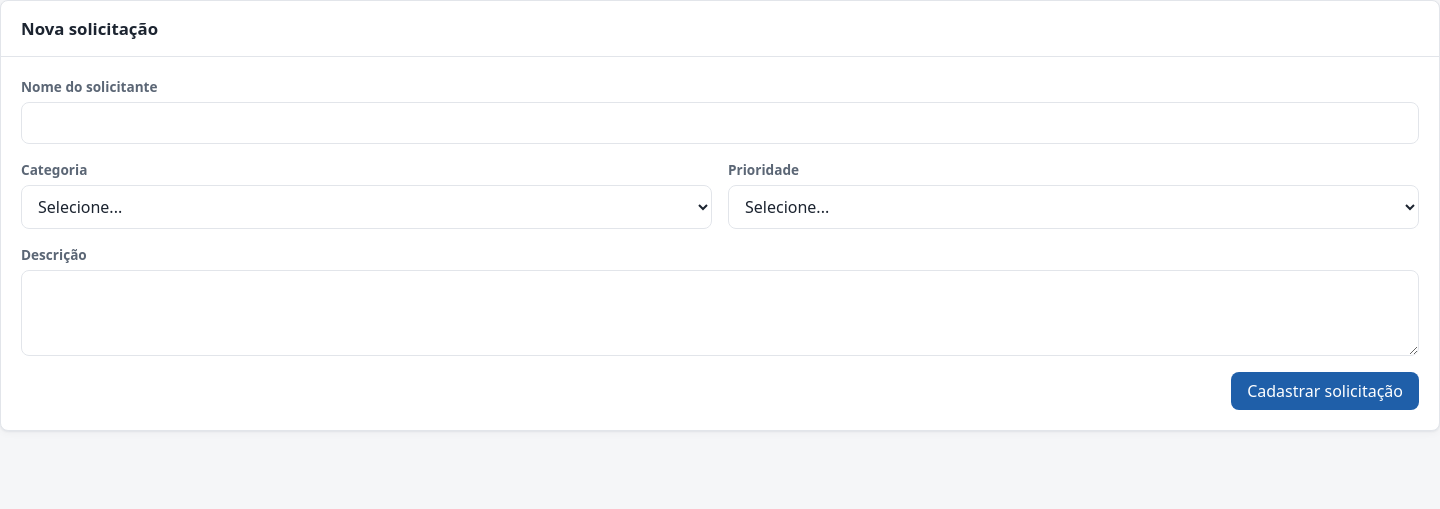
Test: FormularioSolicitacao › envia os dados preenchidos quando o formulario esta valido
In the field labelled "Nome do solicitante": (720,123) [21,102,1419,144], type "Maria Ficticia"
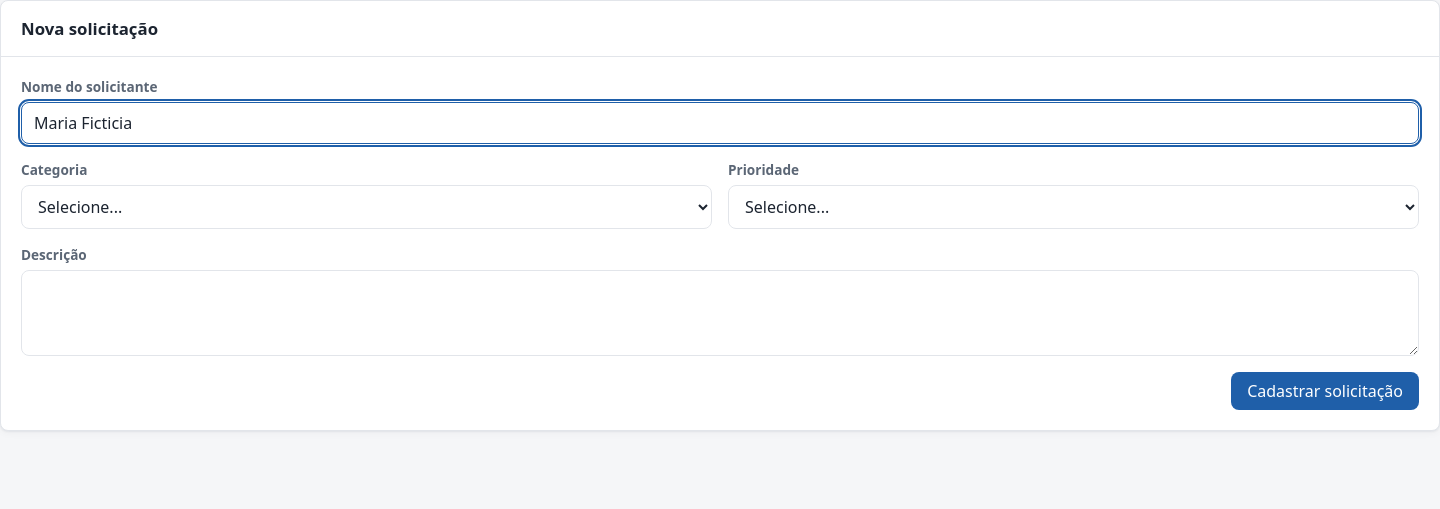
Select "Consulta" in the dropdown labelled "Categoria": (366,207) [21,185,712,229]
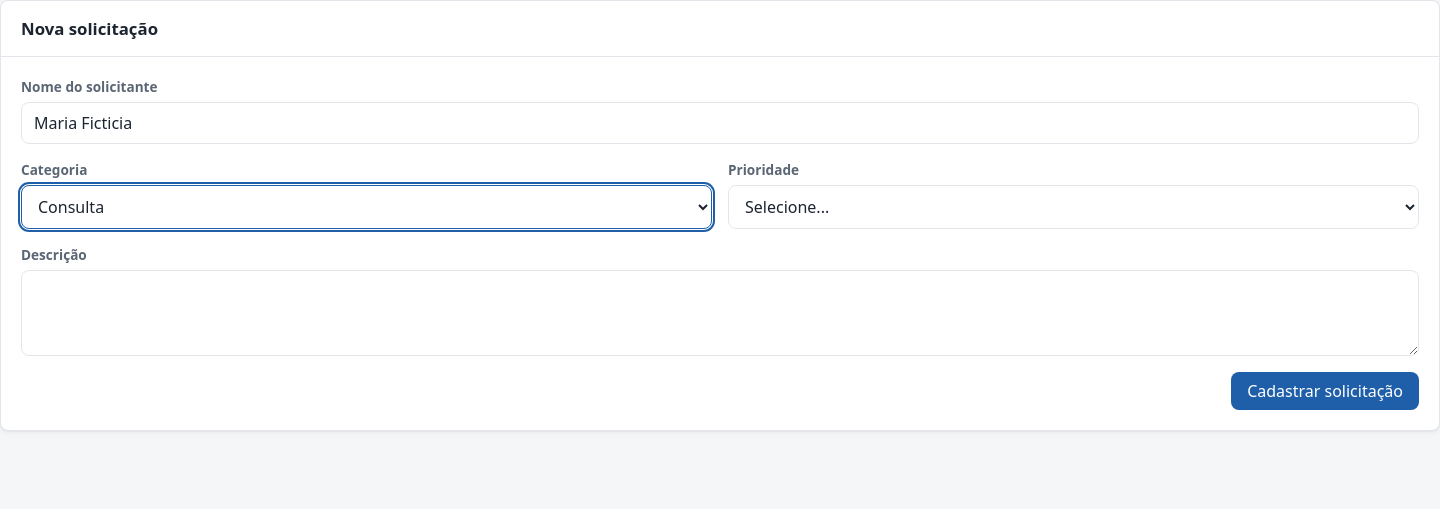
Select "Média" in the dropdown labelled "Prioridade": (1074,207) [728,185,1419,229]
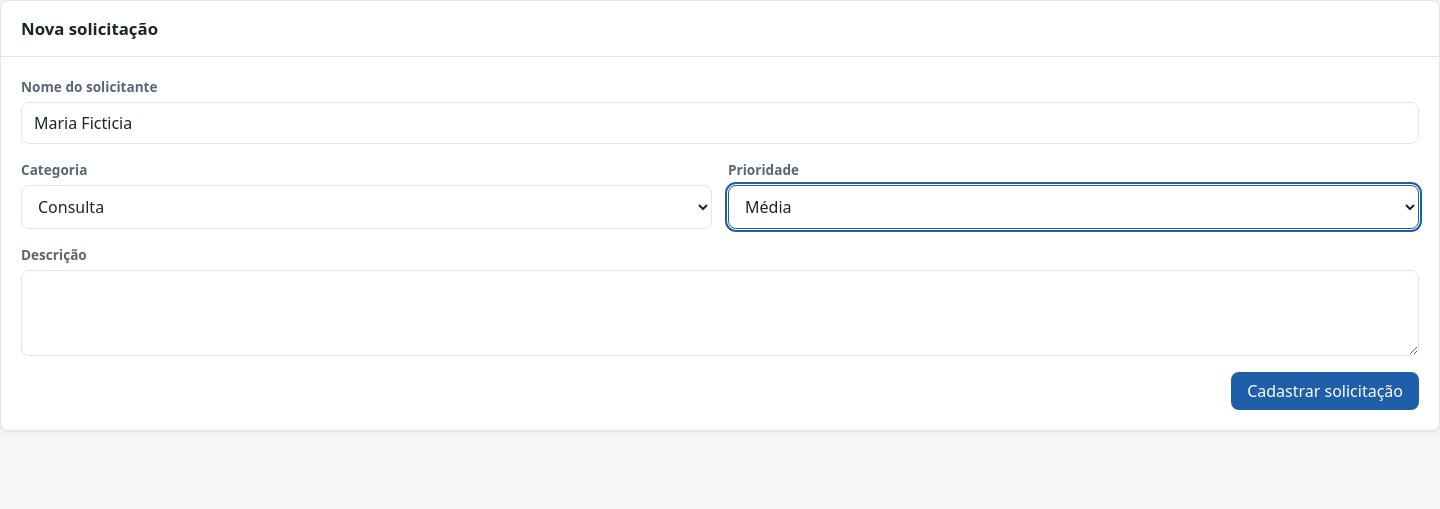
In the text box labelled "Descrição": (720,313) [21,270,1419,356], type "Consulta de rotina."
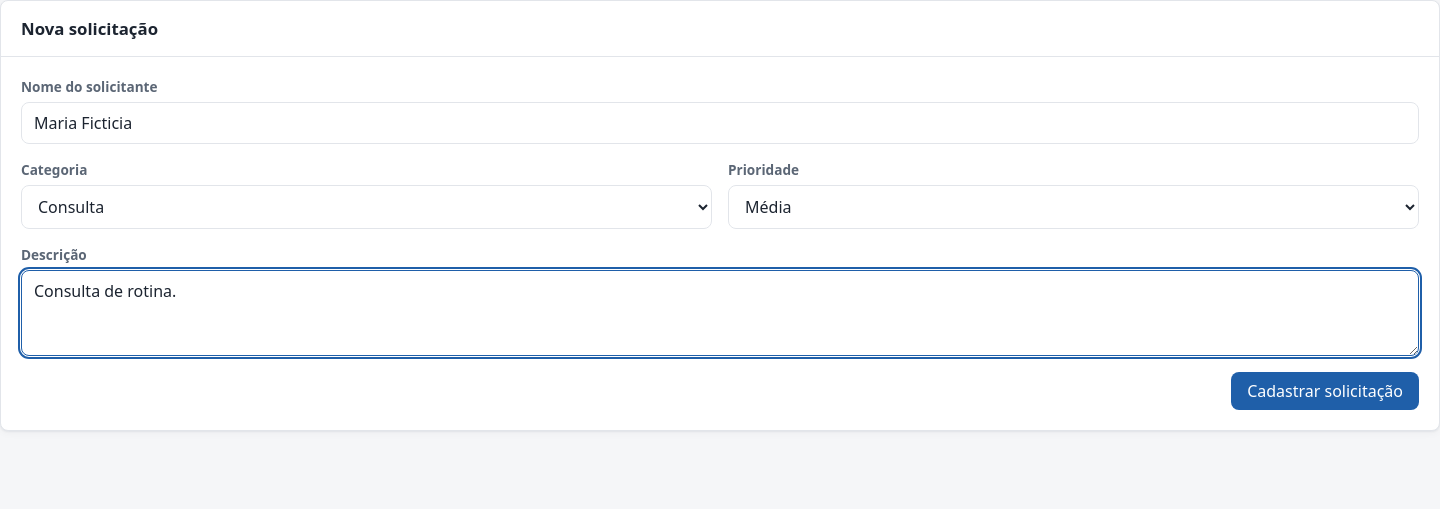
Click the button "Cadastrar solicitação": (1325,391) [1231,372,1419,410]
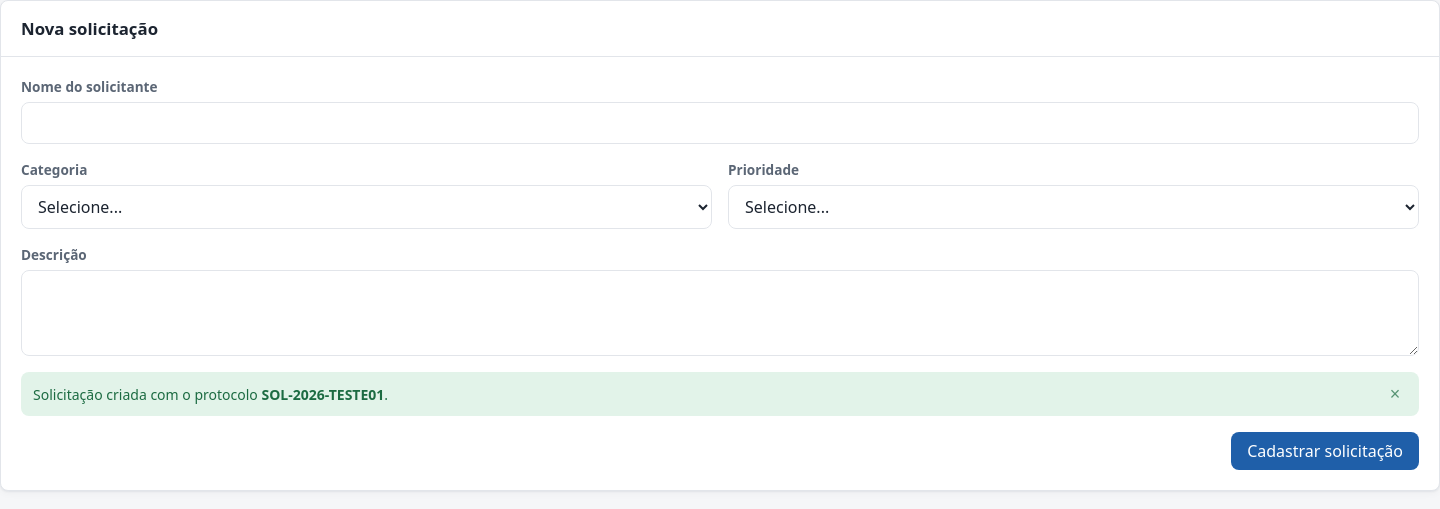
Check: the text "SOL-2026-TESTE01" is shown, box [261,384,384,404]
